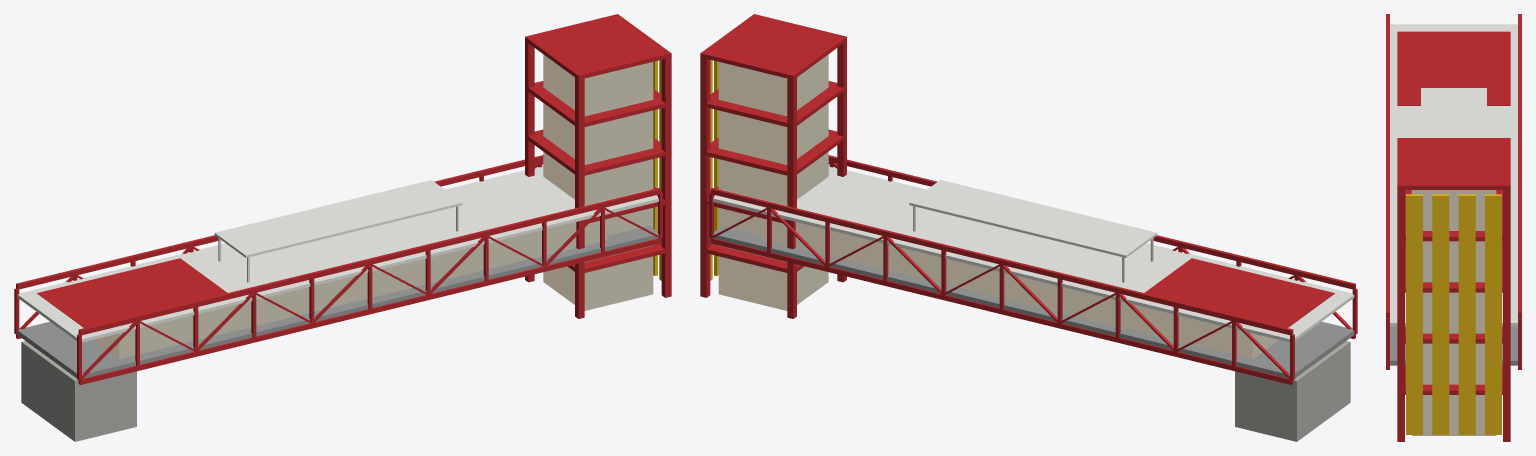
The model's file is cat_rooftop.glb.
The picture shows the model from 3 angles, left to right: view 1: azimuth 30°, elevation 25°; view 2: azimuth 150°, elevation 25°; view 3: azimuth 270°, elevation 25°; orthographic projection. The views are drawn at different scales.
Parts seen in each view (by area): view 1: barcelona-circuit-rooftop; view 2: barcelona-circuit-rooftop; view 3: barcelona-circuit-rooftop.
Boxes of the visible parts, <box> form: barcelona-circuit-rooftop: <box>14,14,671,441</box>; barcelona-circuit-rooftop: <box>700,14,1357,441</box>; barcelona-circuit-rooftop: <box>1386,14,1521,441</box>.
Bounding box in the file's own units: 77.6 × 30 × 14.4.
